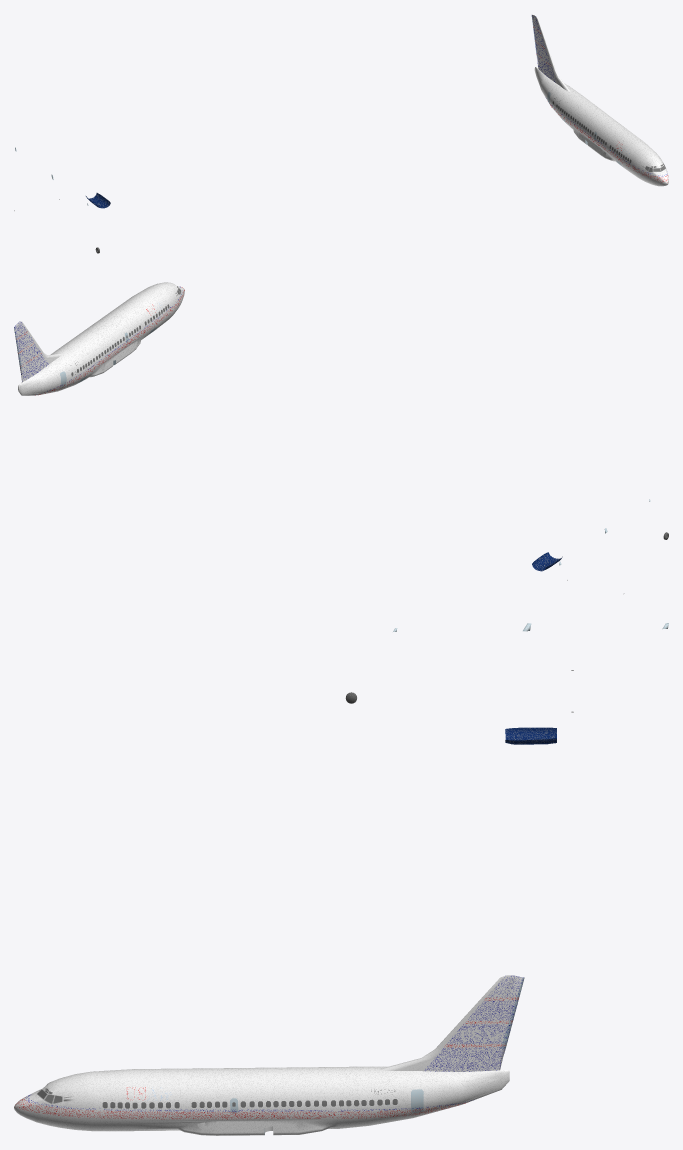
3 renders of one model, top to bottom at view 1: azimuth 30°, elevation 25°; view 2: azimuth 150°, elevation 25°; view 3: azimuth 270°, elevation 25°, orthographic. The views are drawn at different scales.
Parts seen in each view (by area): view 1: instance_41.031, instance_41.029; view 2: instance_41.031, instance_41.029, instance_41.033; view 3: instance_41.031, instance_41.029, instance_41.033, instance_41.003, instance_41.008, instance_41.004, group_71.801, instance_41.009.
Boxes of the visible parts, x1,y1,x2,y2 form: instance_41.031: [534, 67, 666, 174]; instance_41.029: [556, 112, 658, 186]; instance_41.031: [18, 282, 182, 395]; instance_41.029: [49, 297, 183, 393]; instance_41.033: [34, 308, 171, 395]; instance_41.031: [33, 1066, 509, 1109]; instance_41.029: [33, 1112, 434, 1135]; instance_41.033: [96, 1101, 469, 1119]; instance_41.003: [424, 1047, 505, 1071]; instance_41.008: [446, 1023, 508, 1044]; instance_41.004: [380, 976, 504, 1071]; group_71.801: [505, 727, 556, 744]; instance_41.009: [466, 1000, 515, 1020].
Bounding box in the file's own units: 74.54 × 12.26 × 43.47.
Materials: 21 (3 with a texture image).
